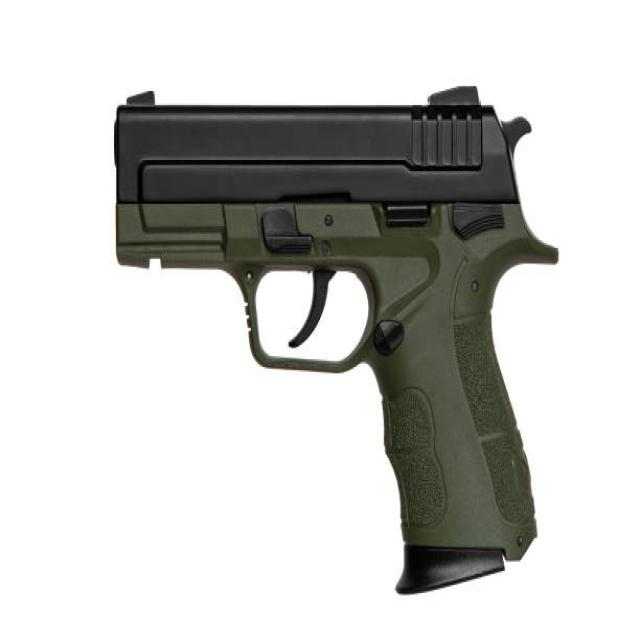pistol: (108, 77, 568, 601)
